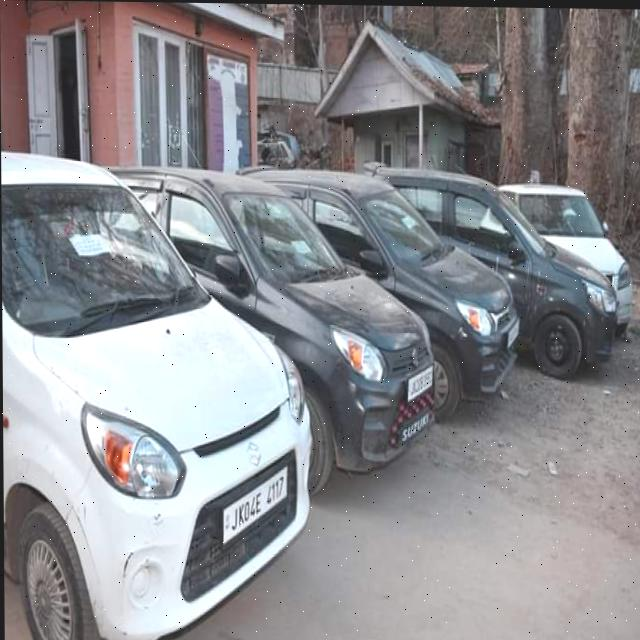plate: (214, 458, 294, 560), (405, 362, 438, 411), (504, 313, 523, 351)
